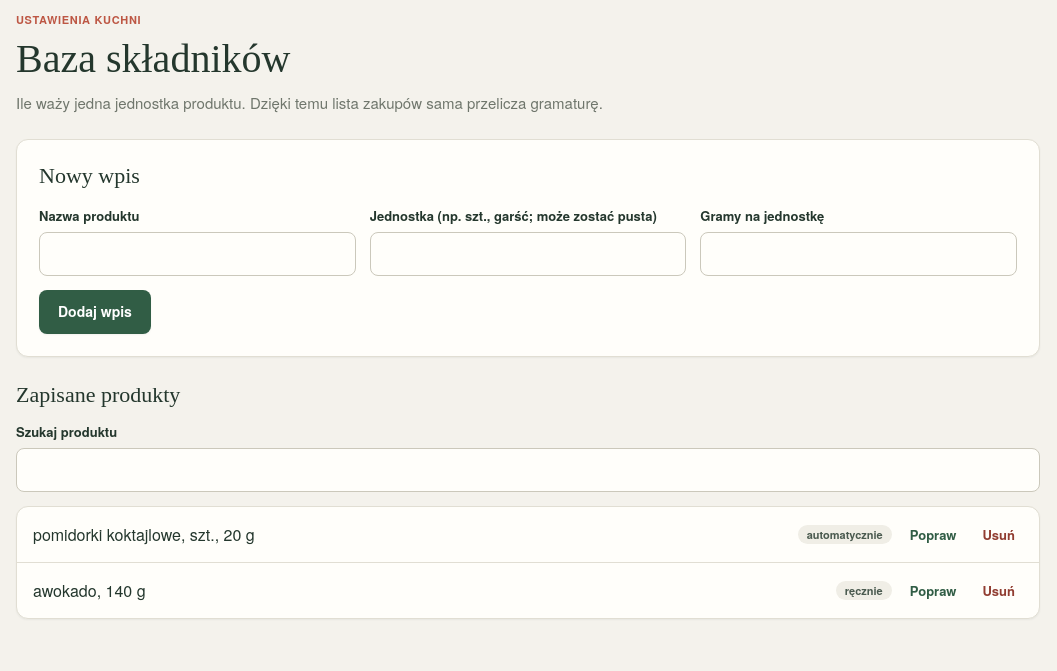
Test: ingredient knowledge base › checks the form and shows the server's message about an existing entry
Step 1. Click the button "Dodaj wpis" → (95, 312), box [39,290,151,334]
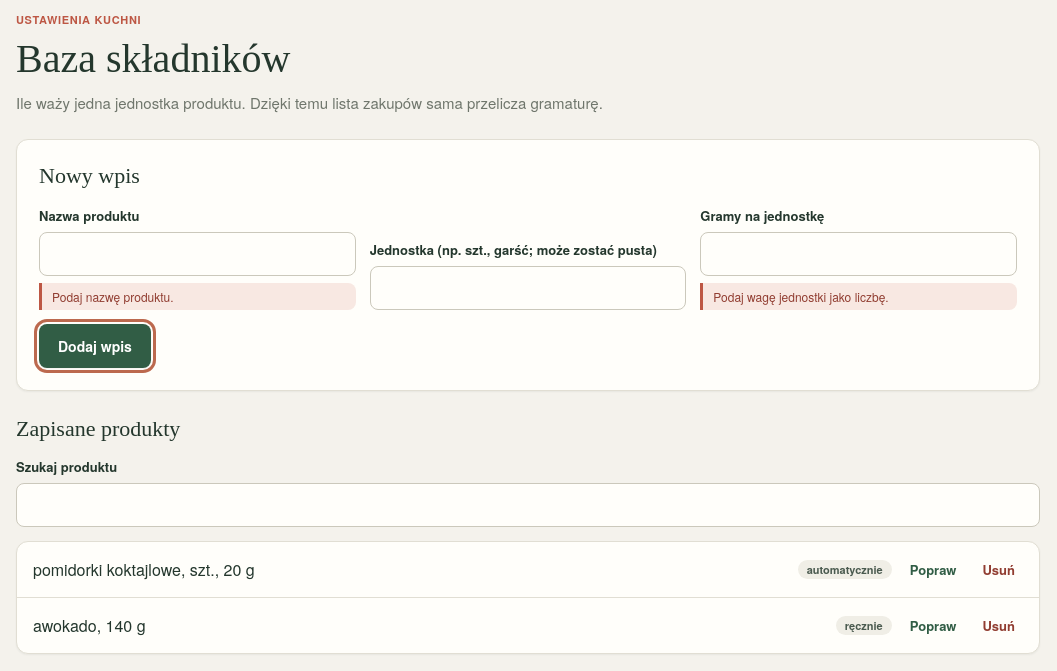
Now the text "Podaj nazwę produktu." is shown, box [39,283,356,310]
Now the text "Podaj wagę jednostki jako liczbę." is shown, box [700,283,1017,310]
Step 2. Type "Awokado" into the field labelled "Nazwa produktu Podaj nazwę produktu." → (197, 254), box [39,232,356,276]
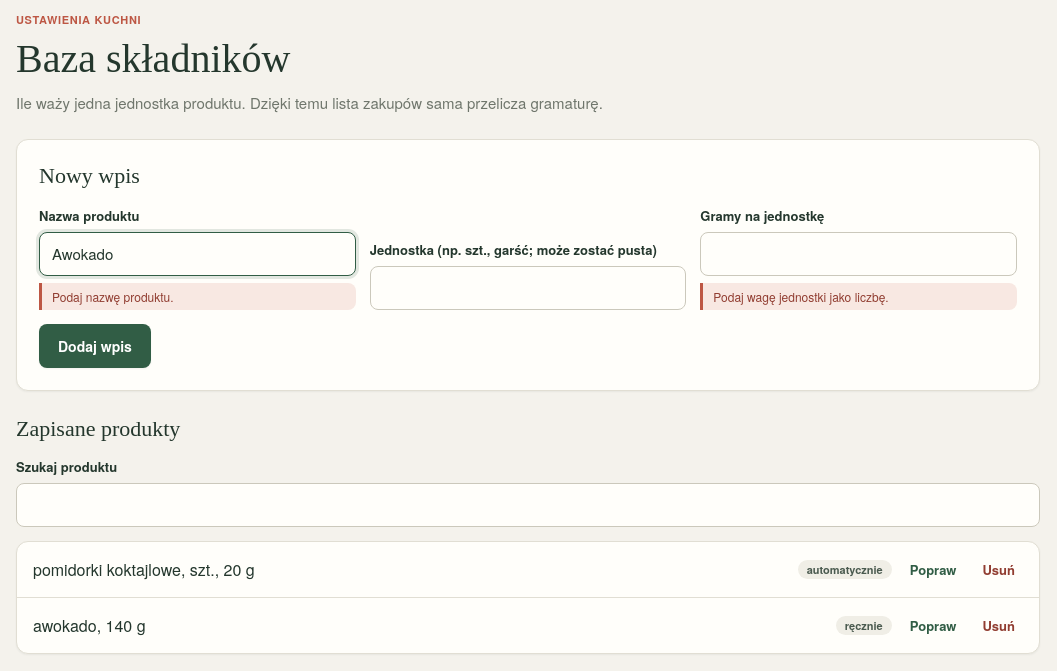
Step 3. Type "150" into the field labelled "Gramy na jednostkę Podaj wagę jednostki jako liczbę." → (859, 254), box [700,232,1017,276]
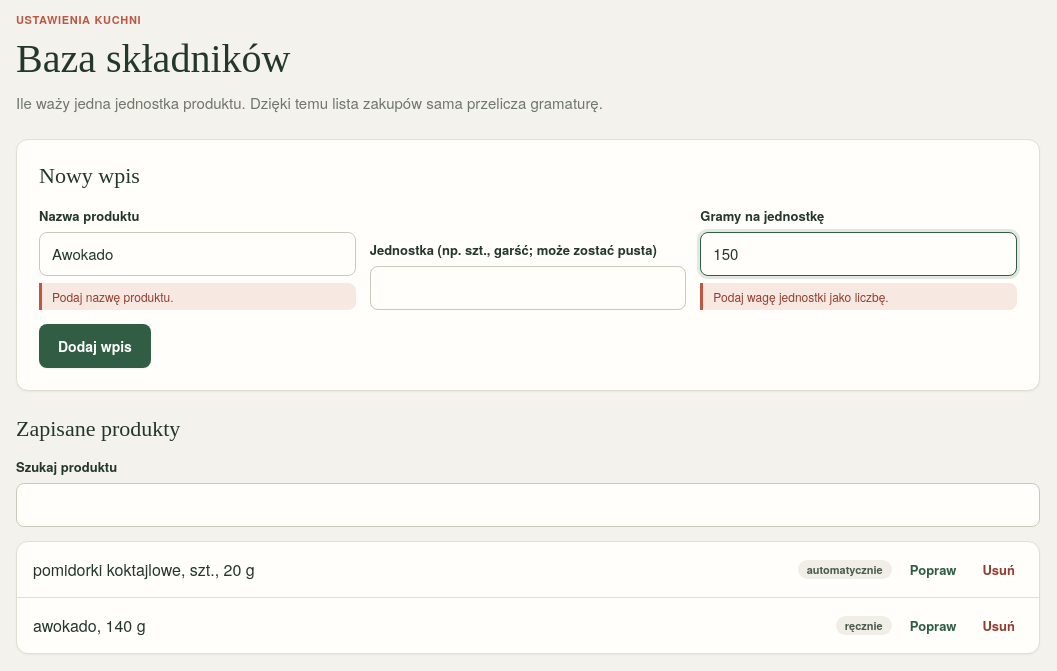
Step 4. Click the button "Dodaj wpis" → (95, 346), box [39,324,151,368]
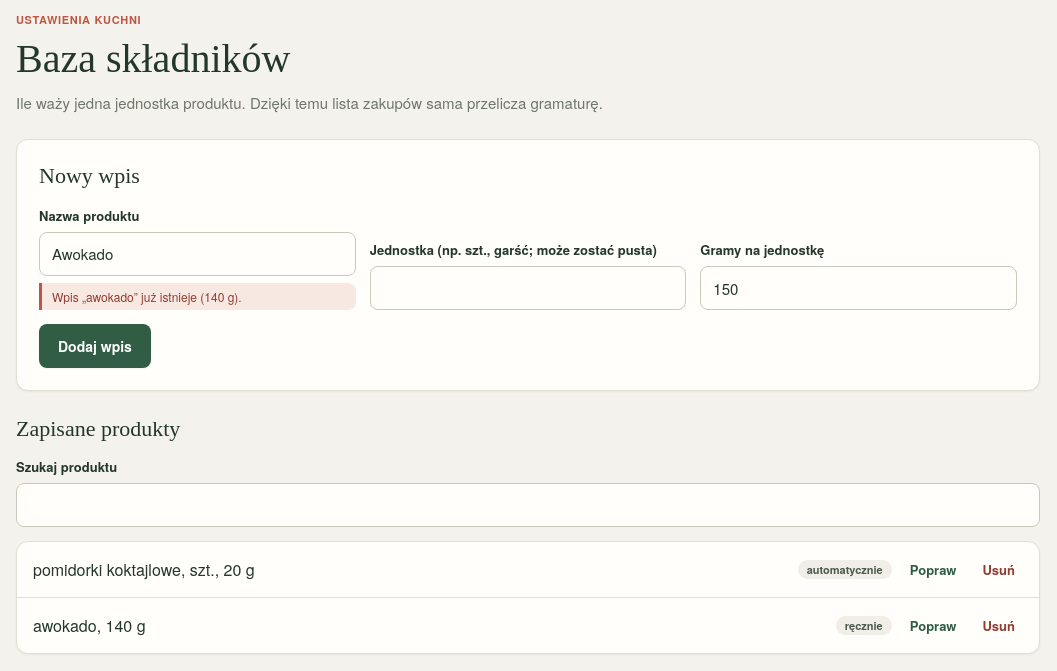
Now the text "Wpis „awokado” już istnieje (140 g)." is shown, box [39,283,356,310]
